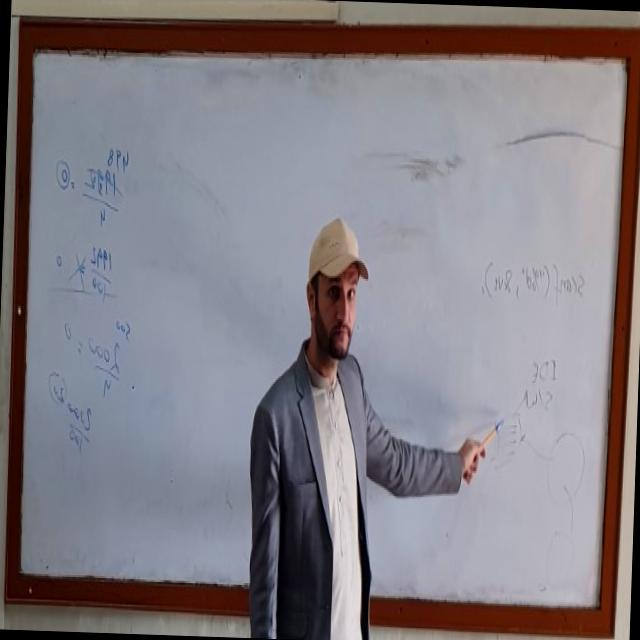Instructor: (239, 190, 386, 640)
White-board: (11, 30, 636, 626)
